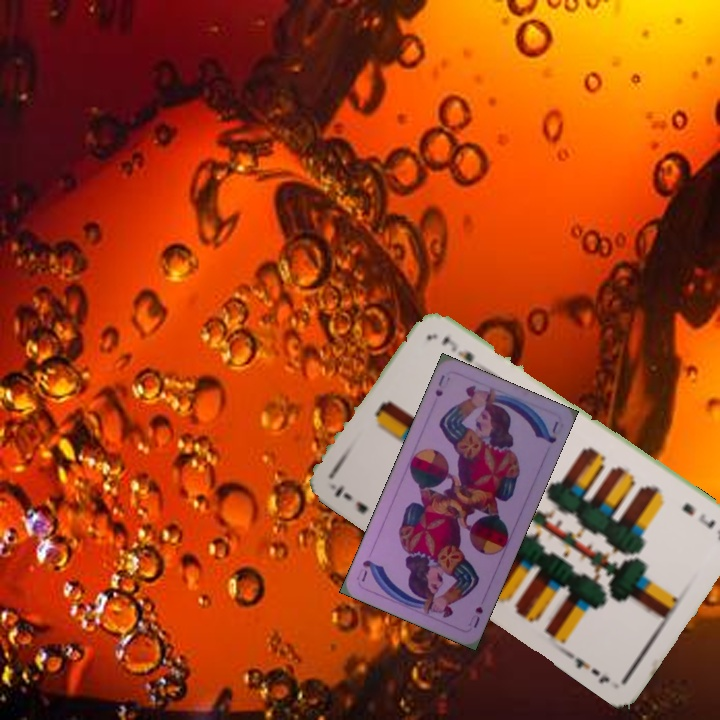E7: (330, 480, 370, 516), (678, 498, 718, 532)
SU: (464, 602, 486, 631), (431, 371, 447, 399)
